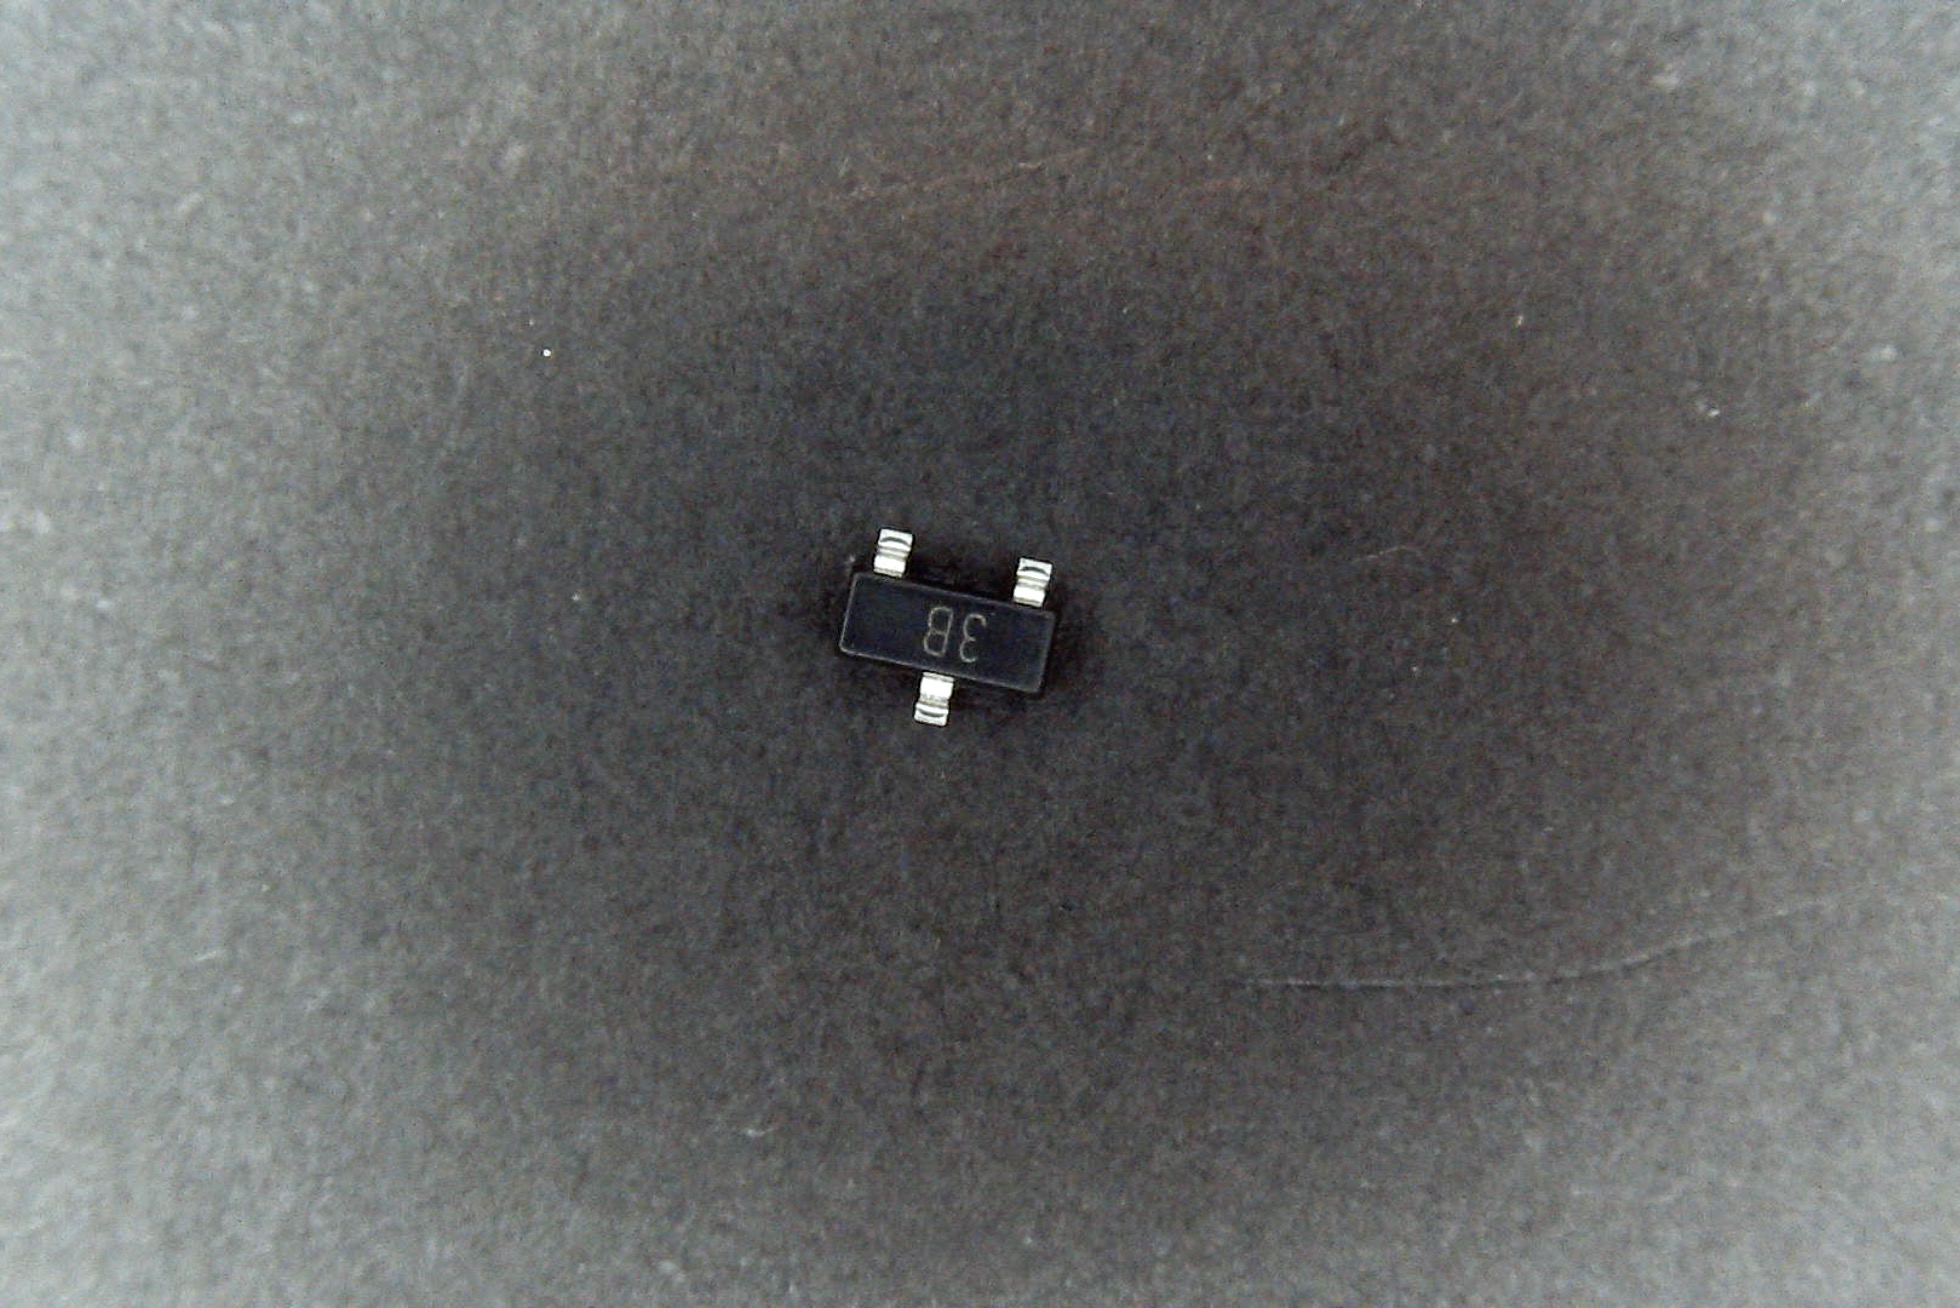bbox: (835, 526, 1057, 728)
